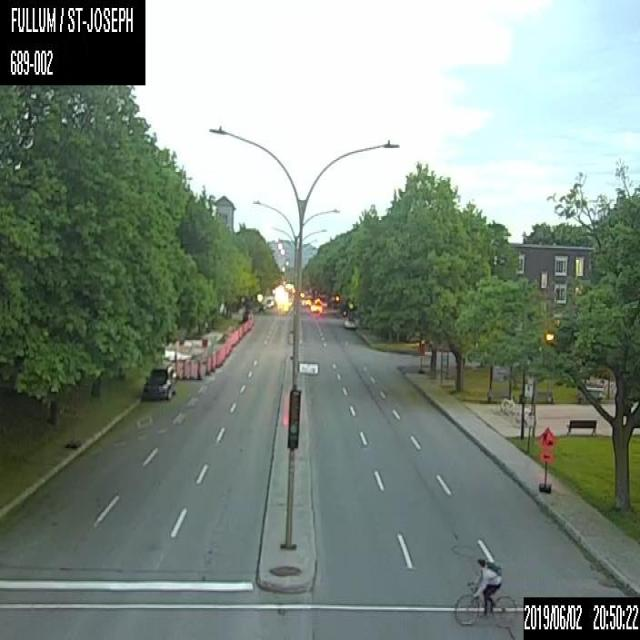construction: (538, 425, 556, 492), (187, 359, 195, 379), (180, 360, 188, 379), (195, 360, 202, 380), (174, 359, 181, 378), (204, 356, 210, 375), (210, 353, 214, 371)
cyclist: (452, 556, 517, 629)
vehicle: (141, 361, 175, 400), (342, 316, 357, 329)
